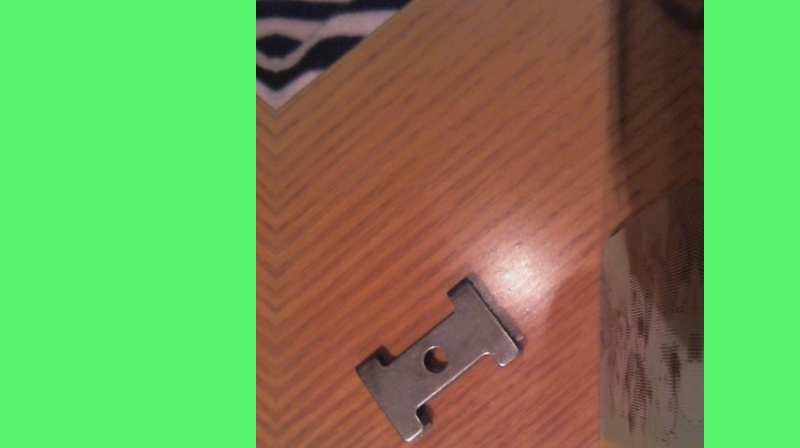O002: (354, 272, 525, 443)
